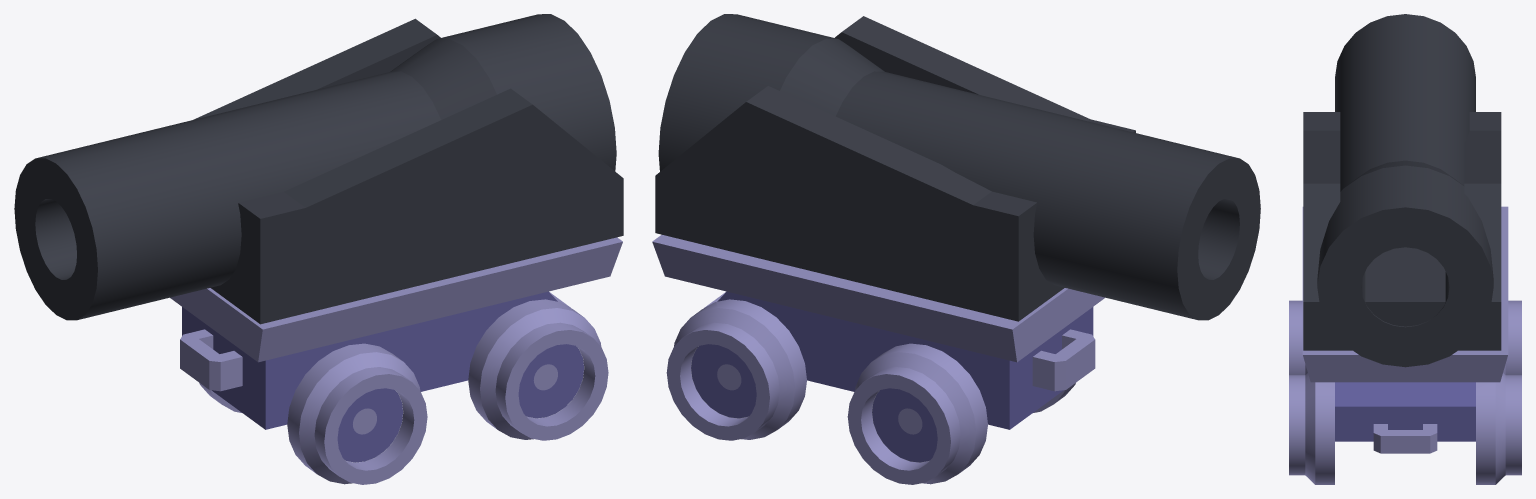
The model's file is canon.dae.
The picture shows the model from 3 angles, left to right: view 1: azimuth 30°, elevation 25°; view 2: azimuth 150°, elevation 25°; view 3: azimuth 270°, elevation 25°; orthographic projection. The views are drawn at different scales.
Parts seen in each view (by area): view 1: mergedBlocks; view 2: mergedBlocks; view 3: mergedBlocks.
Boxes of the visible parts, left/top/right/bottom form: mergedBlocks: left=14, top=14, right=623, bottom=484; mergedBlocks: left=652, top=14, right=1260, bottom=484; mergedBlocks: left=1289, top=14, right=1521, bottom=484.
Bounding box in the file's own units: 0.702 × 0.475 × 0.33.
